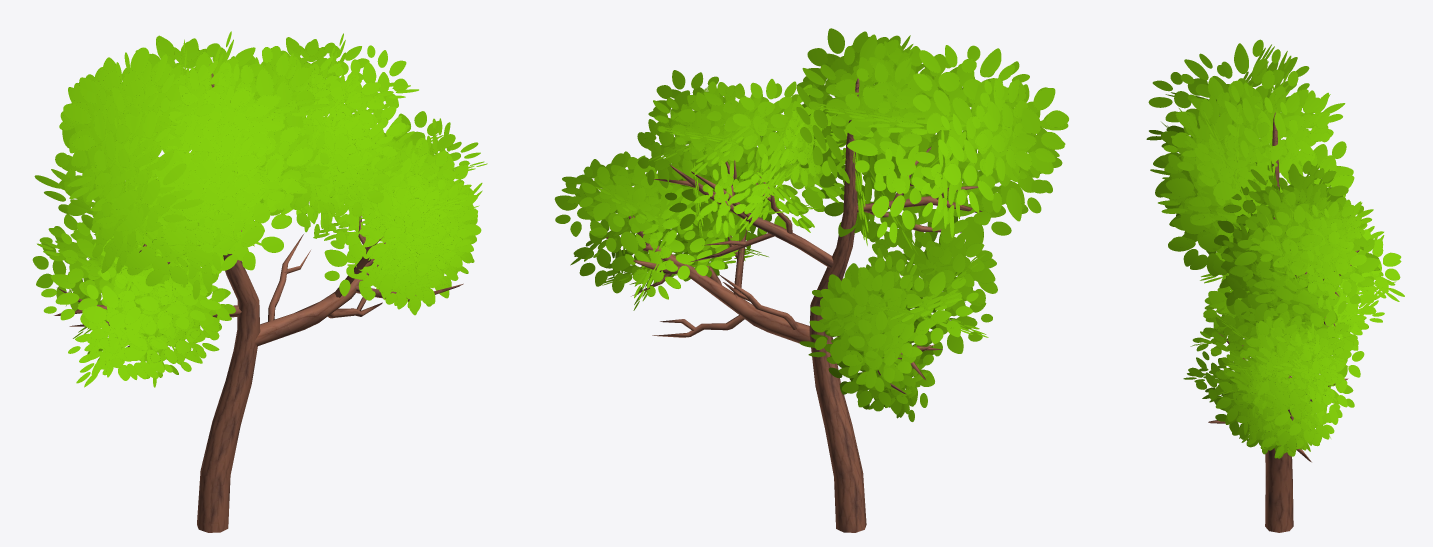
File: tree_c.glb
The picture shows the model from 3 angles, left to right: view 1: azimuth 30°, elevation 25°; view 2: azimuth 150°, elevation 25°; view 3: azimuth 270°, elevation 25°; orthographic projection. The views are drawn at different scales.
Visible parts, largest first — view 1: NormalTree_3; view 2: NormalTree_3; view 3: NormalTree_3.
Boxes of the visible parts, x1=… form: NormalTree_3: x1=32, y1=31, x2=487, y2=532; NormalTree_3: x1=554, y1=28, x2=1068, y2=532; NormalTree_3: x1=1146, y1=39, x2=1404, y2=532.
Bounding box in the file's own units: 5.9 × 6.11 × 3.63.
Materials: 2 (2 with a texture image).
